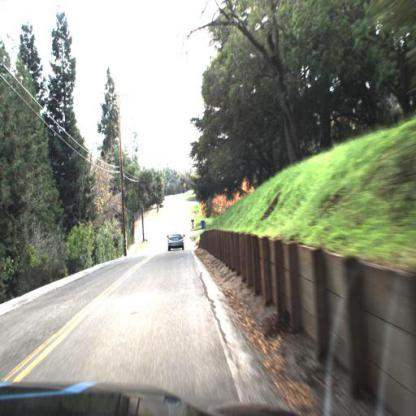car: (165, 226, 186, 256)
